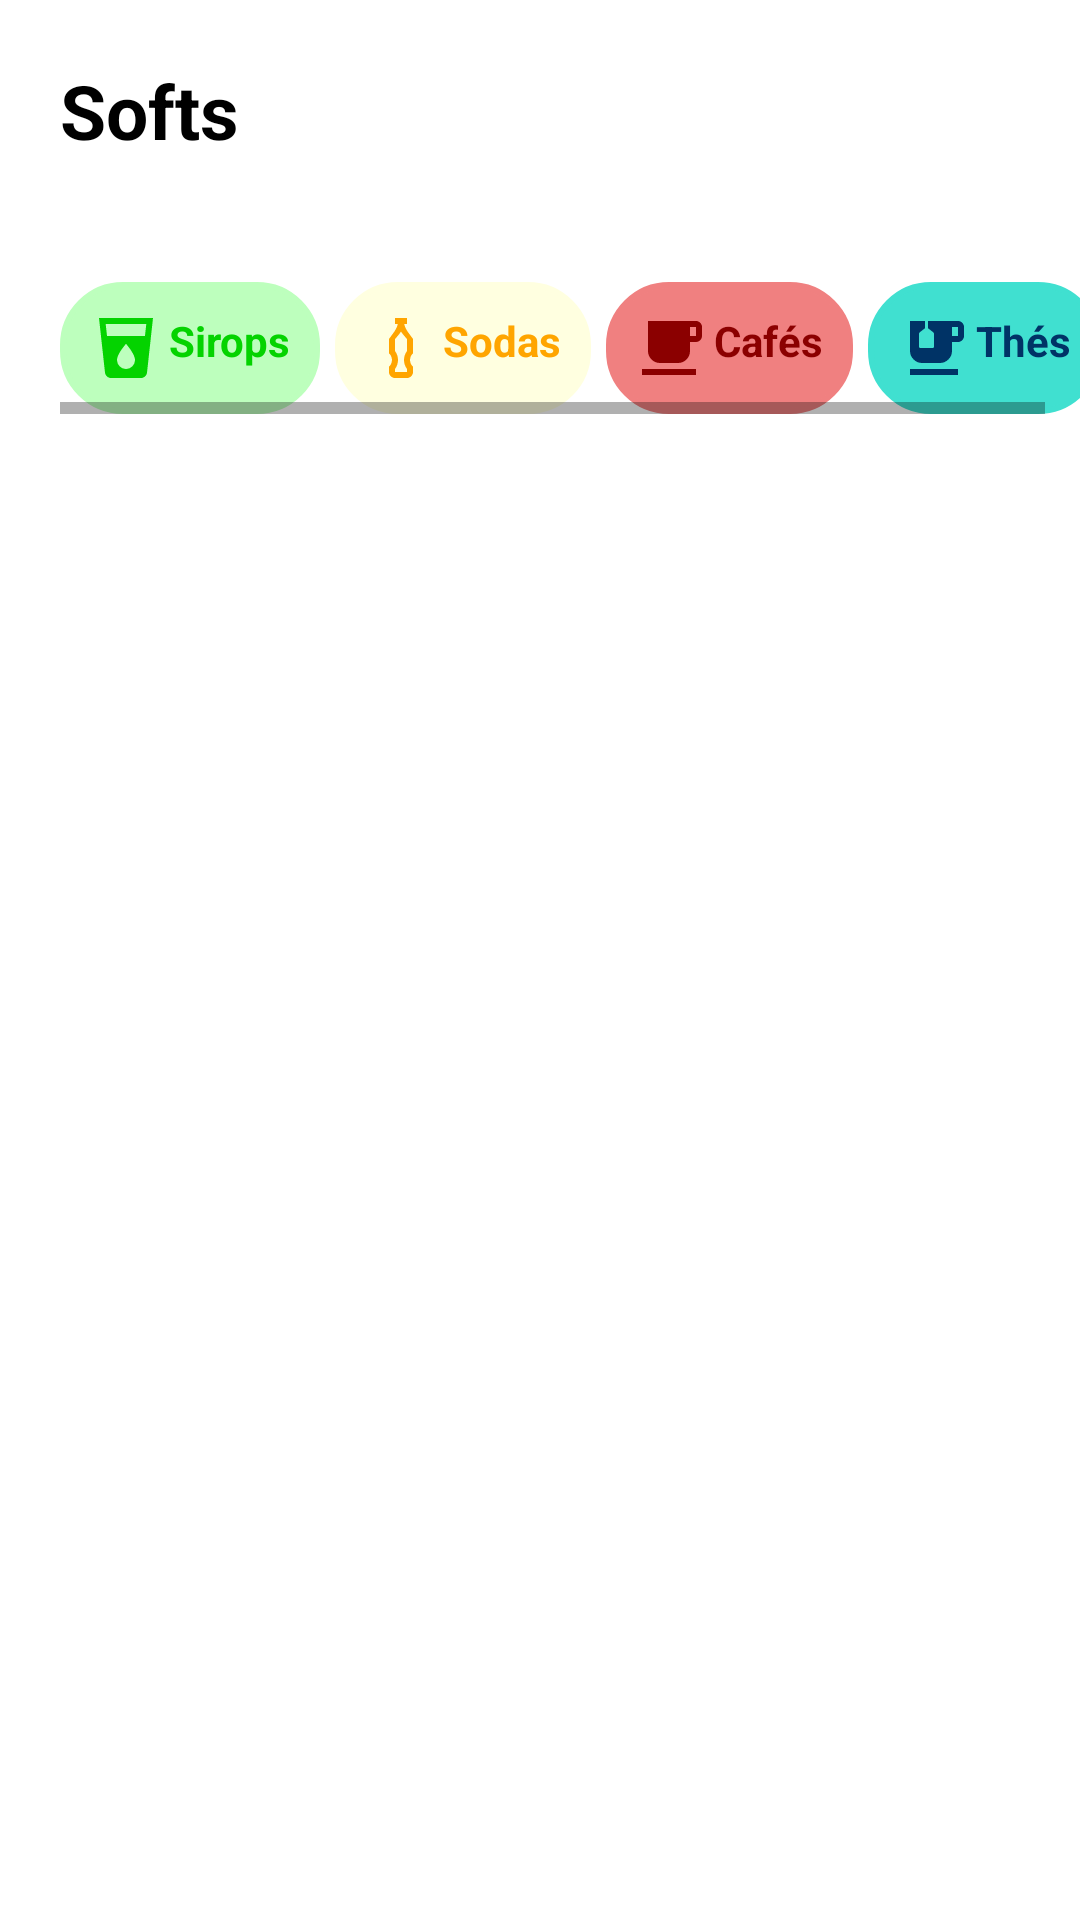

Screen size 1080 x 1920. Icon name, then its box in pixels as (x1, y1, x2, y2):
Image montrant une bouteille de soda: (389, 318, 413, 378)
Image montrant une tasse de café: (642, 321, 702, 375)
Image montrant une tasse de thé: (910, 321, 964, 375)
